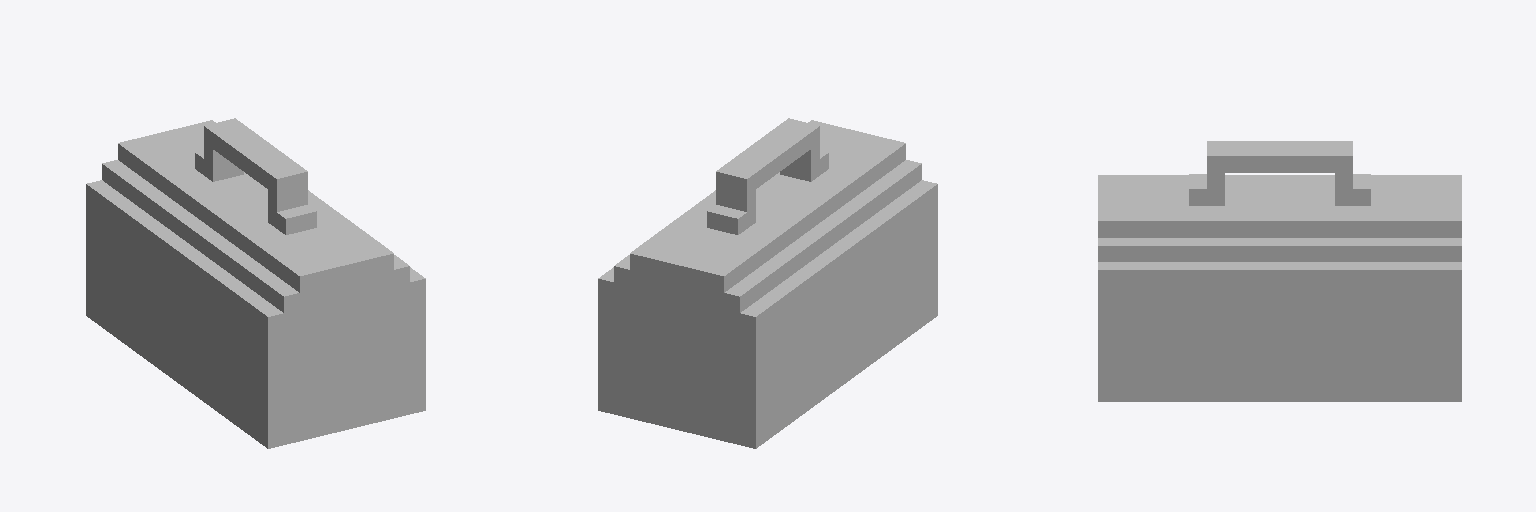
File: Tool Box.obj
3 renders of one model, left to right at view 1: azimuth 30°, elevation 25°; view 2: azimuth 150°, elevation 25°; view 3: azimuth 270°, elevation 25°, orthographic.
Parts seen in each view (by area): view 1: object 1; view 2: object 1; view 3: object 1.
Part boxes in pixels (x1,y1,x2,y2): object 1: (86,118,425,448); object 1: (598,118,937,448); object 1: (1098,141,1461,401).
Size of the model in its own units: 1 by 1.3 by 2.